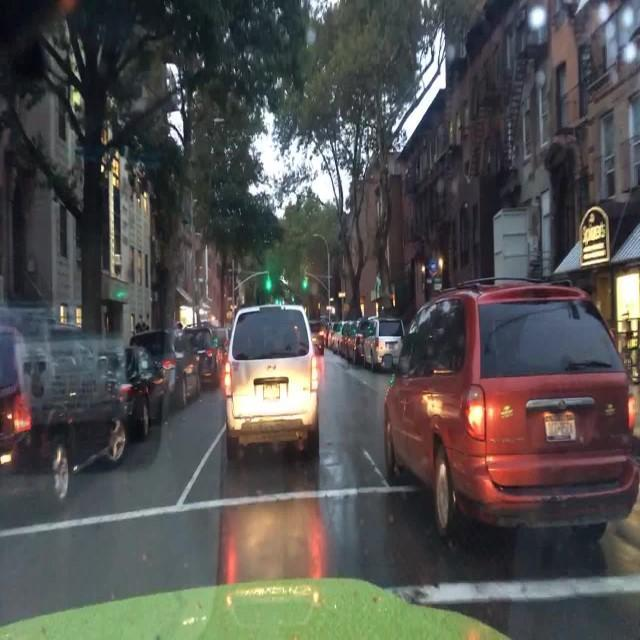normal: (378, 279, 634, 561), (225, 306, 327, 464), (124, 329, 201, 415), (352, 318, 403, 372), (183, 328, 223, 389), (330, 320, 355, 352)
